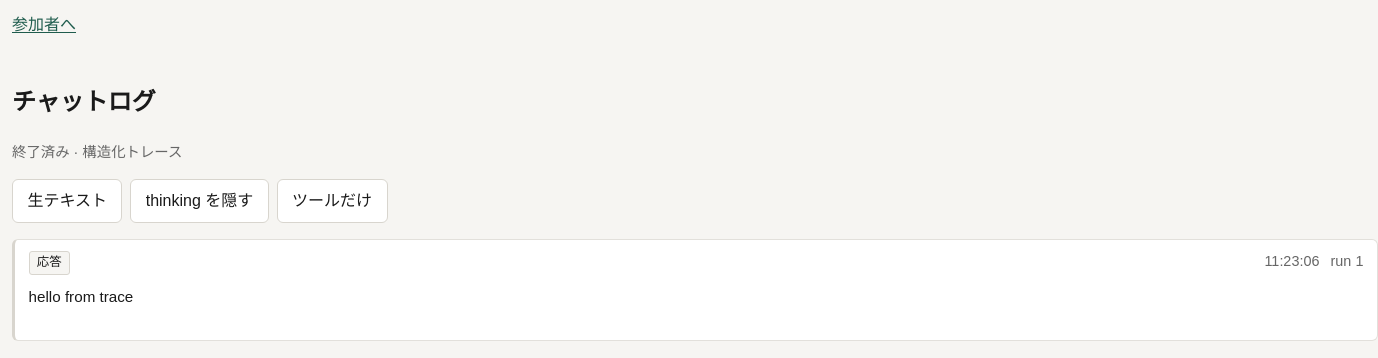
Test: SessionLogPage › reconstructs raw text from traces when chat_log is empty
The width and height of the screenshot is (1378, 358).
Expected: the text "hello from trace" is shown, [29, 288, 133, 305]
Click the button "生テキスト".
click(67, 201)  # box [12, 179, 122, 223]
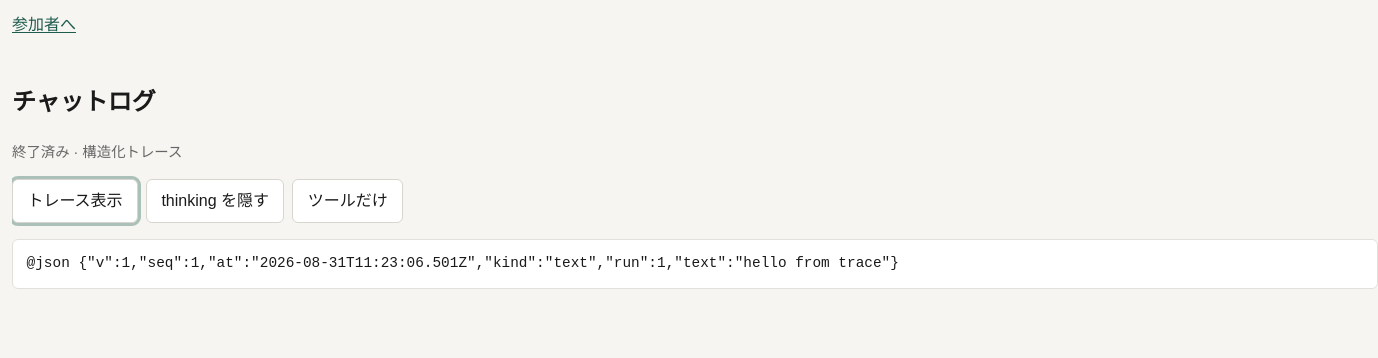
Now the text "hello from trace" is shown, box [27, 255, 899, 271]
